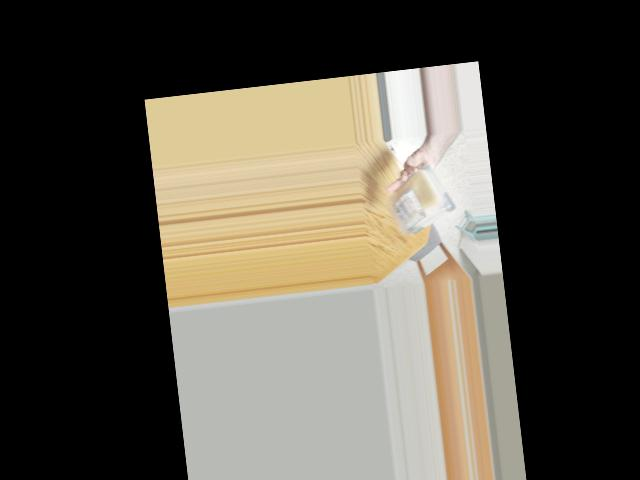cheese: (391, 163, 454, 241)
